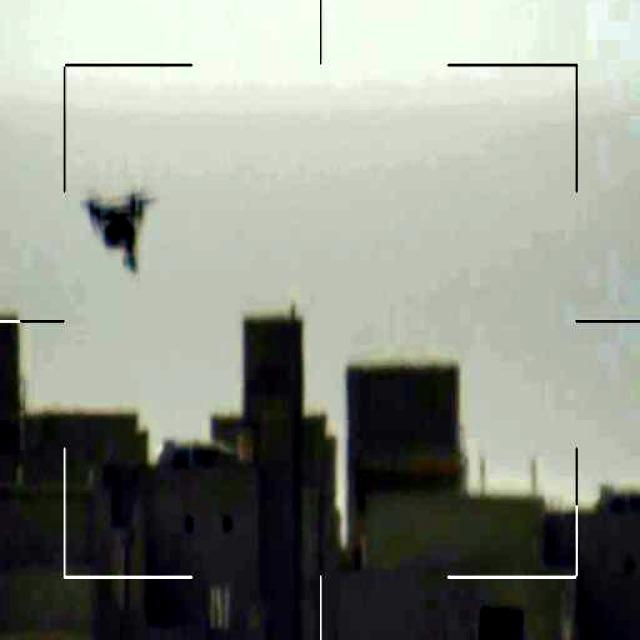bird: (80, 191, 152, 278)
